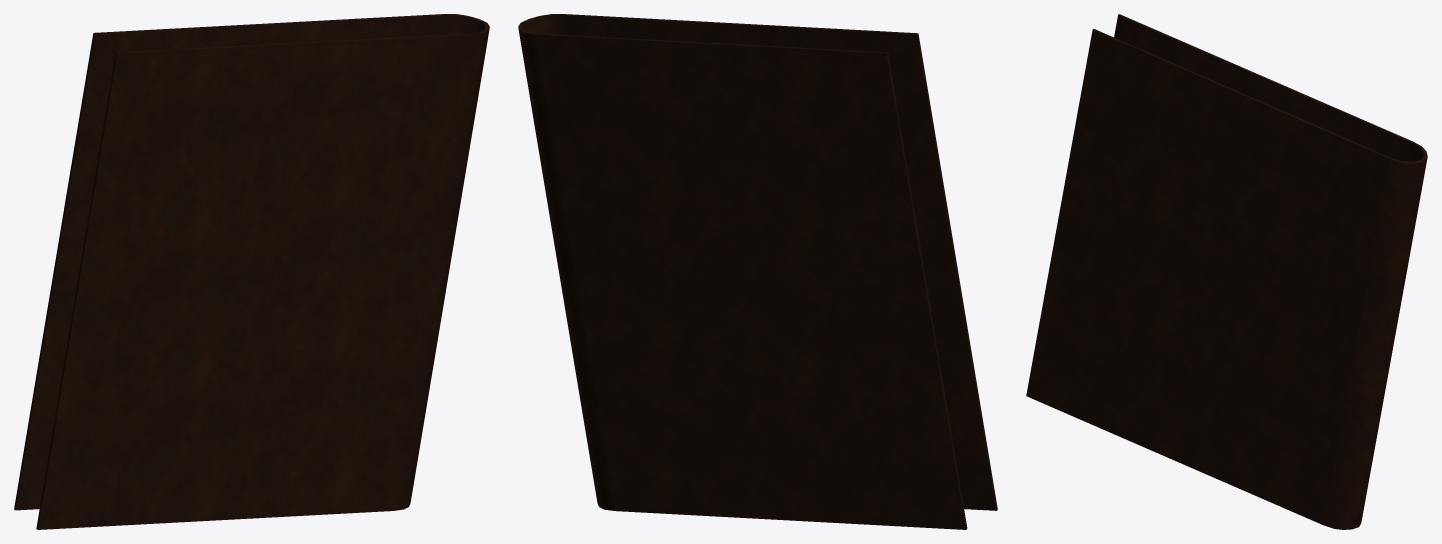
File: cover003.obj
3 renders of one model, left to right at view 1: azimuth 30°, elevation 25°; view 2: azimuth 150°, elevation 25°; view 3: azimuth 330°, elevation 25°, orthographic. The views are drawn at different scales.
Size of the model in its own units: 0.0164 by 0.0179 by 0.00172.
1 material, 1 textured.
